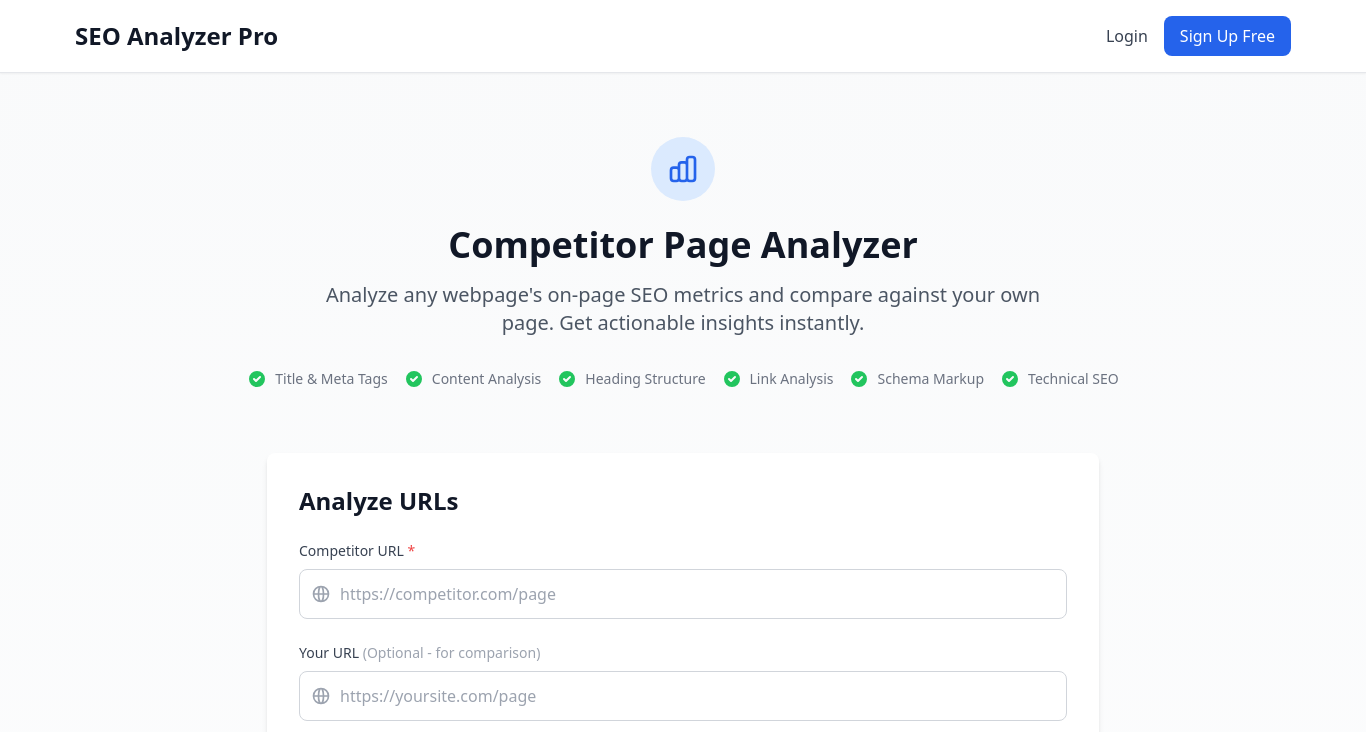
it: CompetitorAnalyzerPage › Form Submission - Error Handling › should distinguish error context (competitor vs mine)
Step 1. Type "https://competitor.com" into the field labelled "Competitor URL *" → (683, 594), box x1=299 y1=569 x2=1067 y2=619
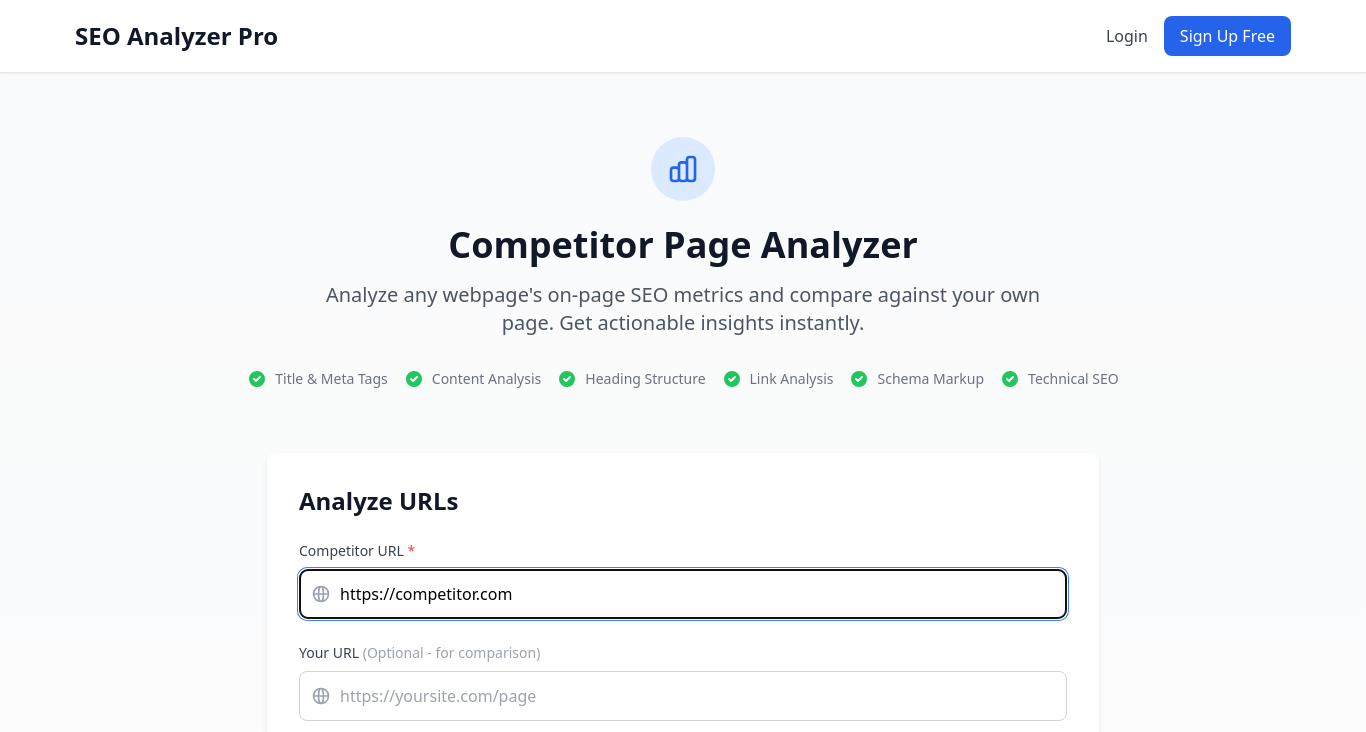
Step 2. Type "https://mysite.com" into the field labelled "Your URL (Optional - for comparison)" → (683, 696), box x1=299 y1=671 x2=1067 y2=721
(page scrolled)
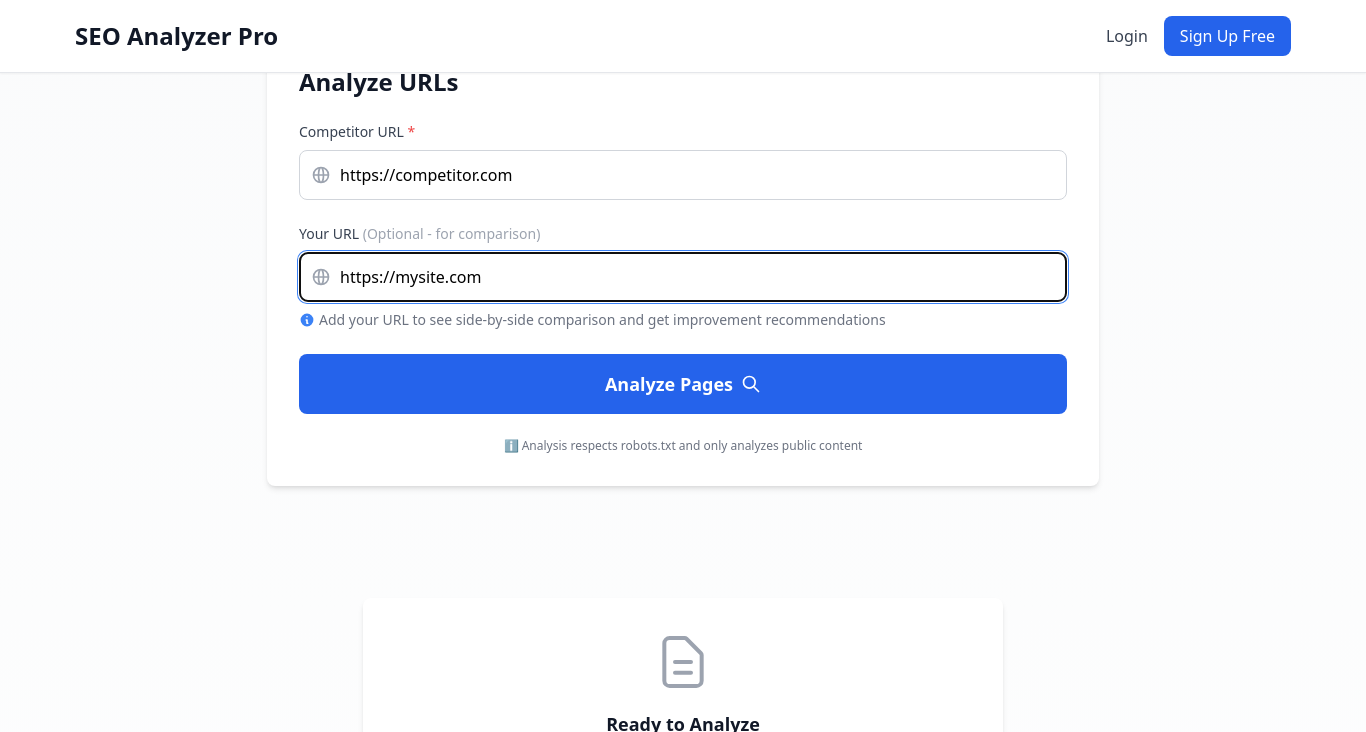
Step 3. Click the button "Analyze Pages" → click(683, 384), box x1=299 y1=354 x2=1067 y2=414
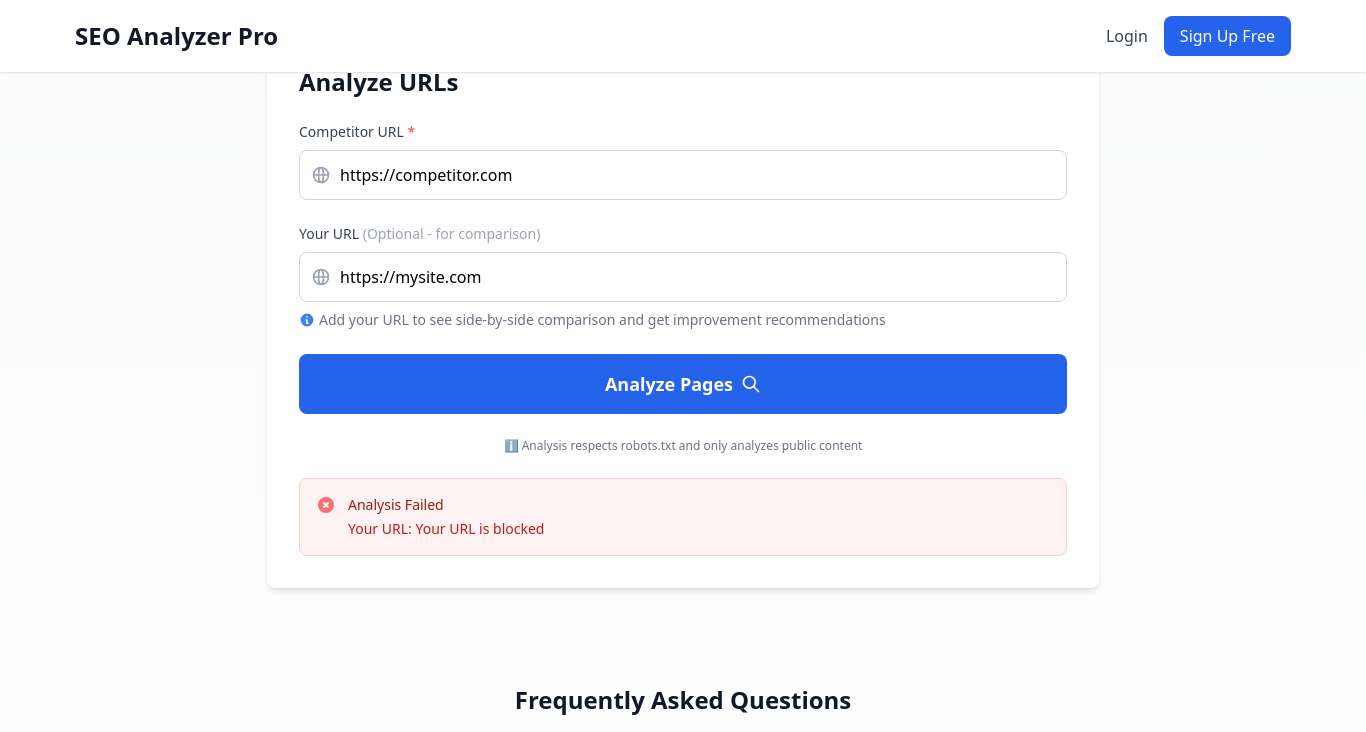
Check: the text "Your URL: Your URL is blocked" is shown, box x1=348 y1=519 x2=544 y2=539
